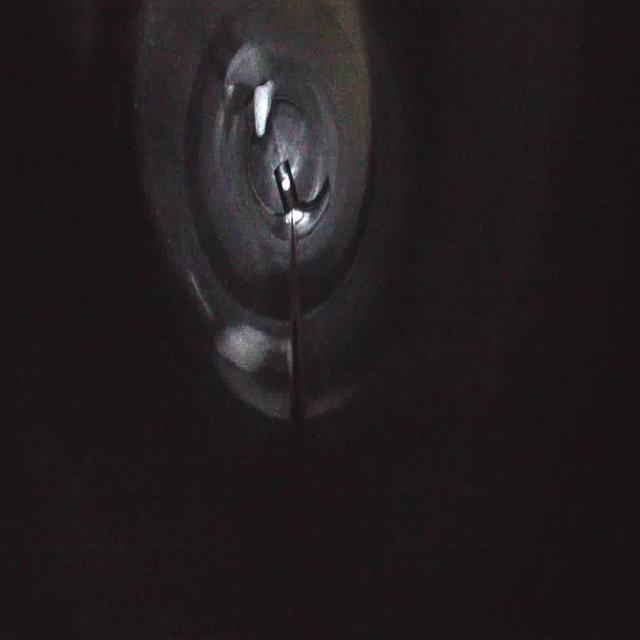impurity: (245, 68, 282, 138)
